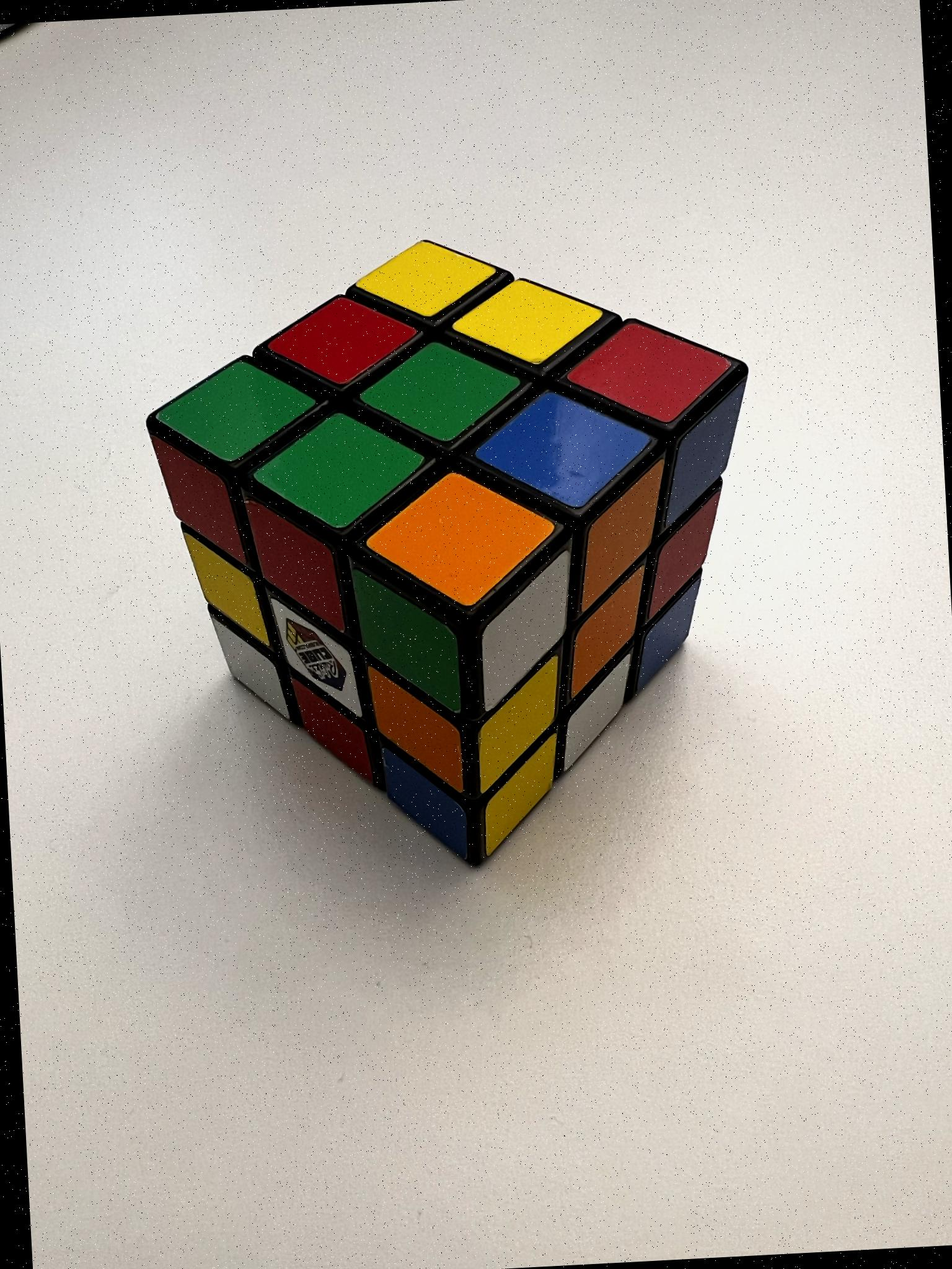rubiks_cube: (150, 240, 746, 858)
